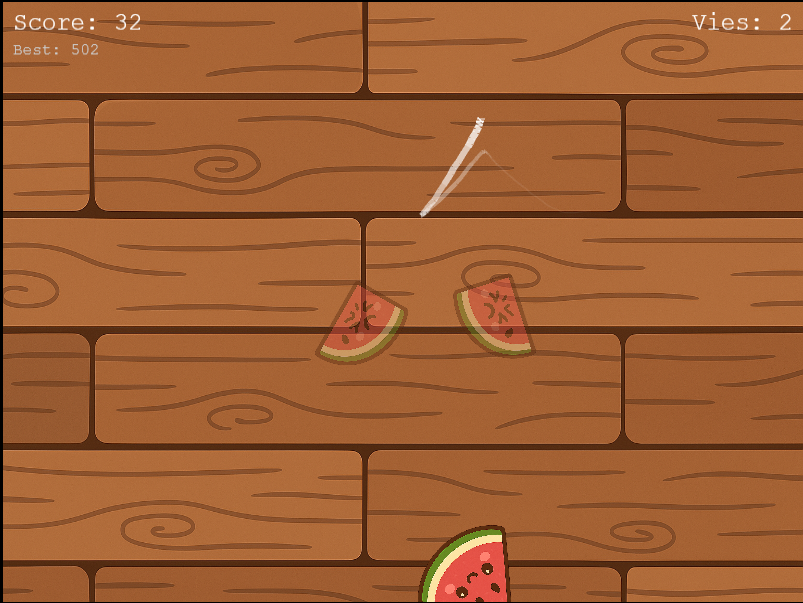fruit: (414, 492, 524, 603)
